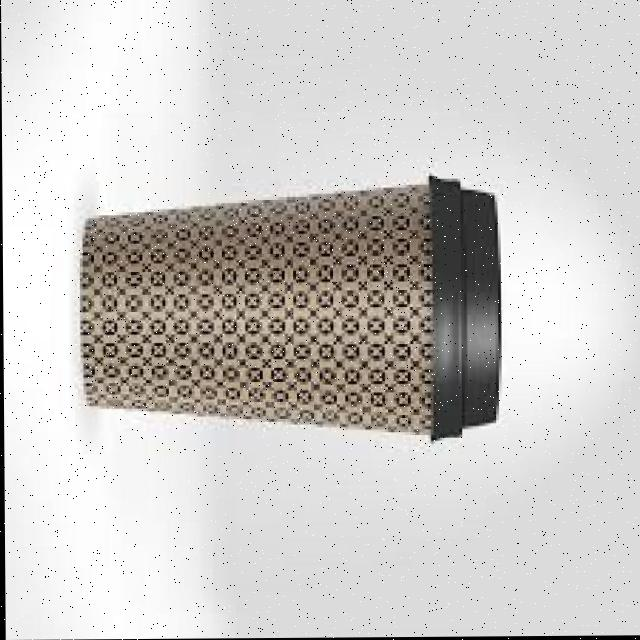cup: (17, 133, 555, 492)
